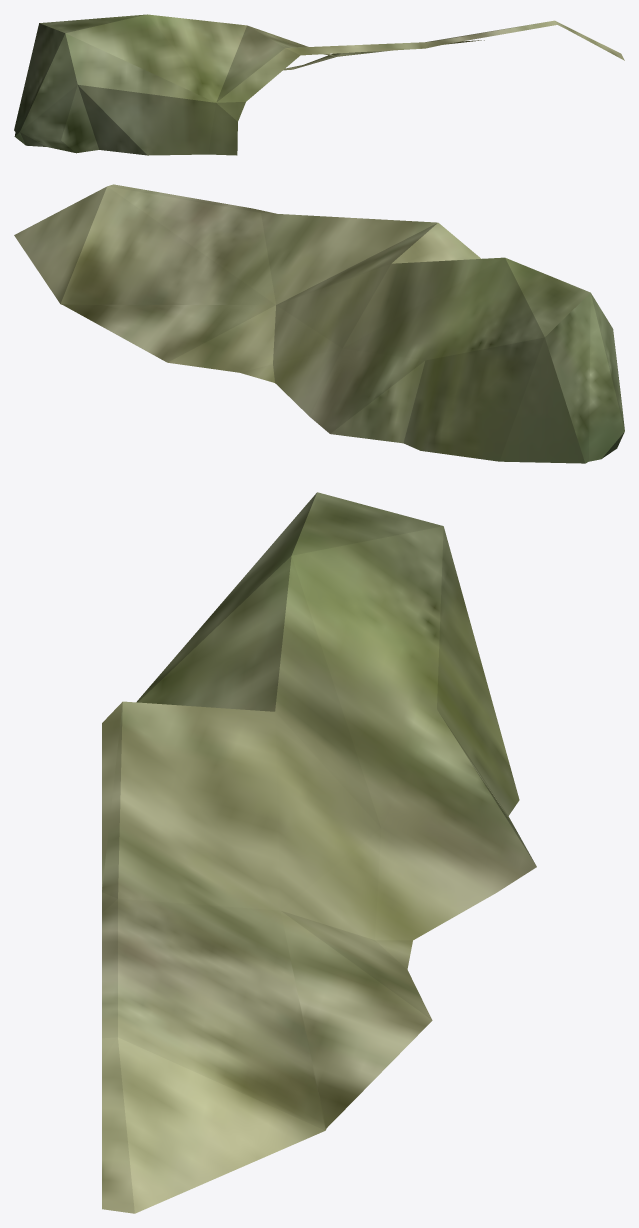
3 renders of one model, top to bottom at view 1: azimuth 30°, elevation 25°; view 2: azimuth 150°, elevation 25°; view 3: azimuth 270°, elevation 25°, orthographic. The views are drawn at different scales.
Size of the model in its own units: 1.24 by 0.2531 by 0.4275.
1 material, 1 textured.
